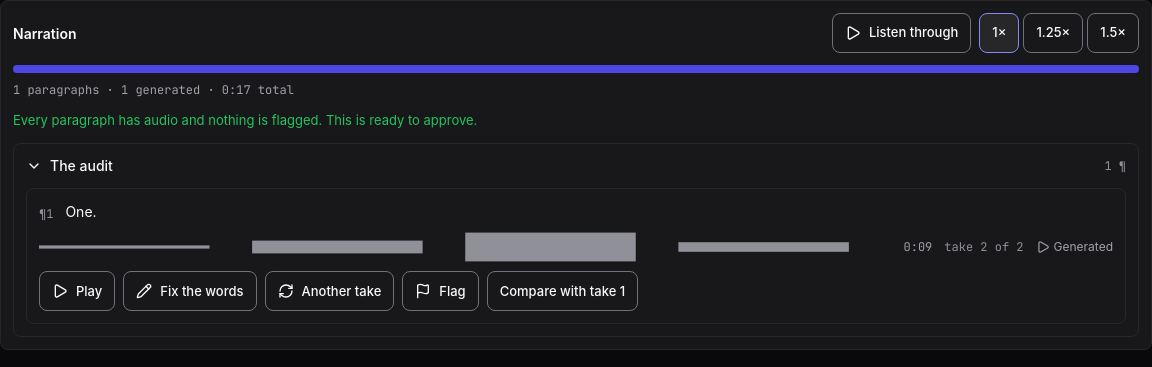
Test: VoiceReview › the A/B toggle › switches the row to the earlier take and back
The width and height of the screenshot is (1152, 367).
Expected: the text "take 2 of 2" is shown, [944,238,1024,256]
Click the button "Compare with take 1" at {"x": 562, "y": 291}, box [487,271,638,311]
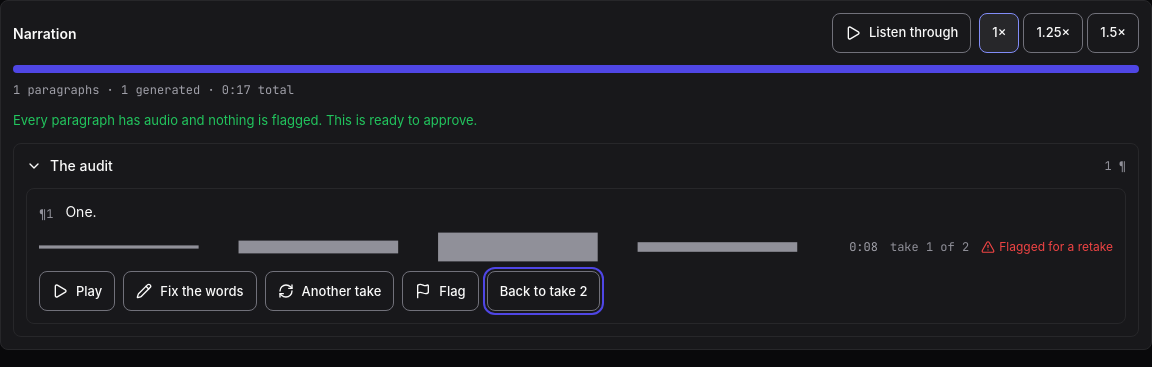
Expected: the text "take 1 of 2" is shown, [890,238,969,256]
Click the button "Back to take 2" at {"x": 544, "y": 291}, box [487,271,600,311]
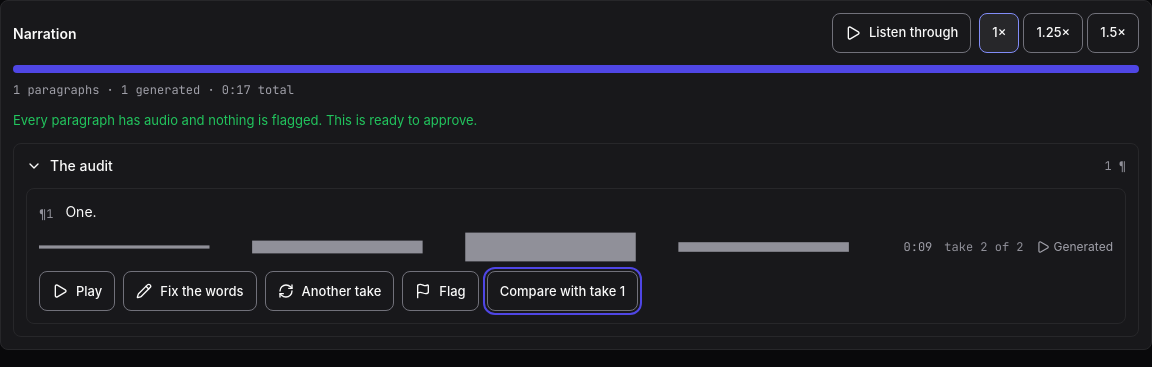
Expected: the text "take 2 of 2" is shown, [944,238,1024,256]
